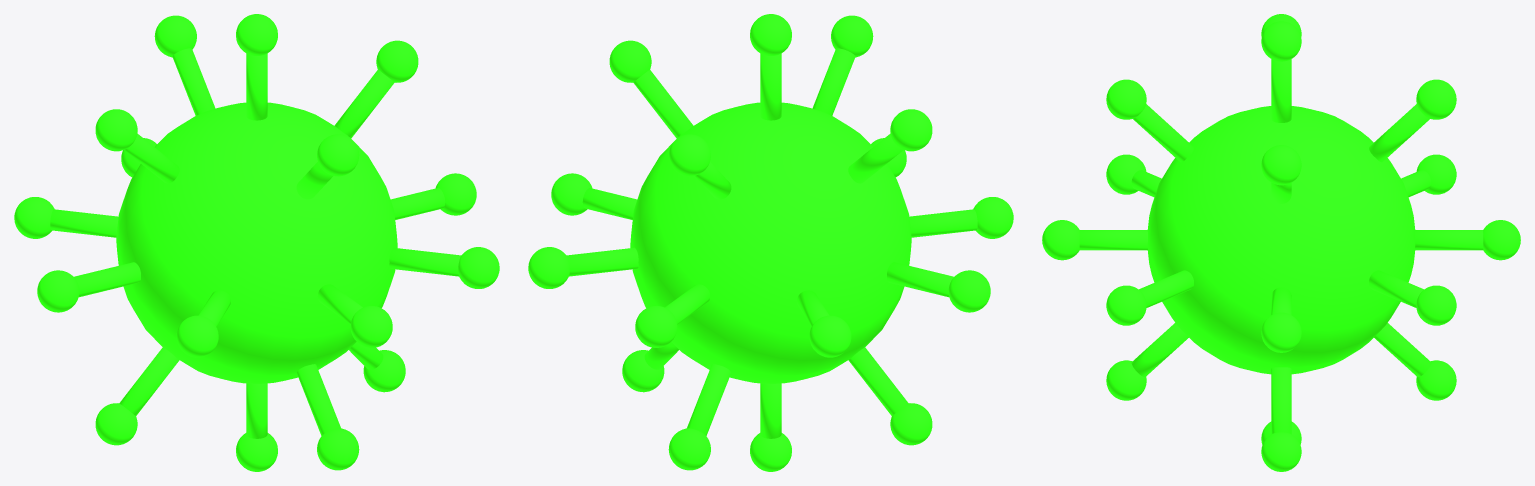
The model's file is virus1.fbx.
3 views of the same model, side by side, from view 1: azimuth 30°, elevation 25°; view 2: azimuth 150°, elevation 25°; view 3: azimuth 270°, elevation 25° (orthographic). The views are drawn at different scales.
Visible parts, largest first — view 1: Virus1; view 2: Virus1; view 3: Virus1.
Boxes of the visible parts, x1=… form: Virus1: x1=14, y1=14, x2=499, y2=471; Virus1: x1=528, y1=14, x2=1013, y2=471; Virus1: x1=1042, y1=14, x2=1520, y2=471.
Bounding box in the file's own units: 355 × 355 × 355.
